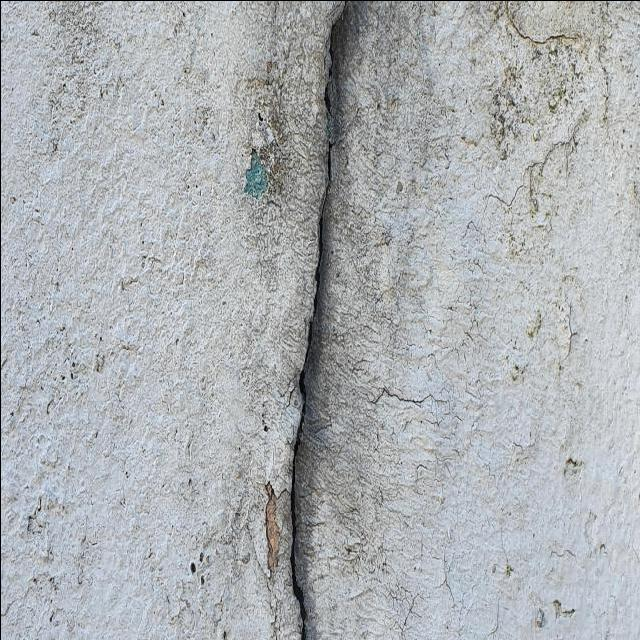SurfaceCrack: (225, 1, 395, 640)
